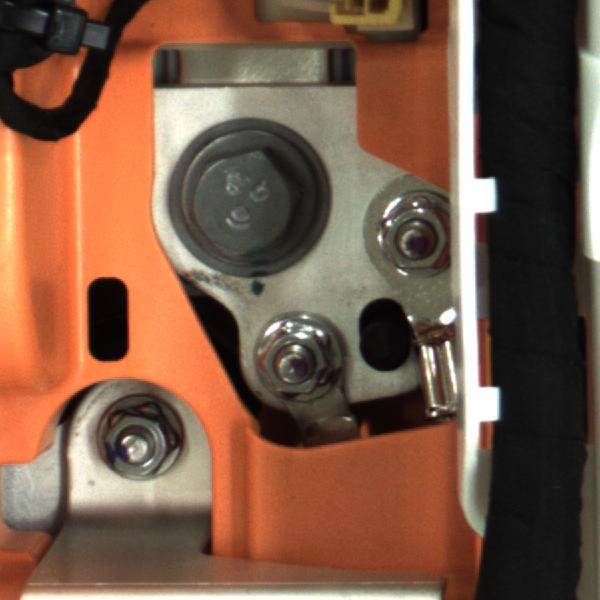nut_b: (145, 130, 330, 285)
screw_s: (238, 305, 357, 411), (98, 399, 209, 485), (366, 194, 466, 278)
